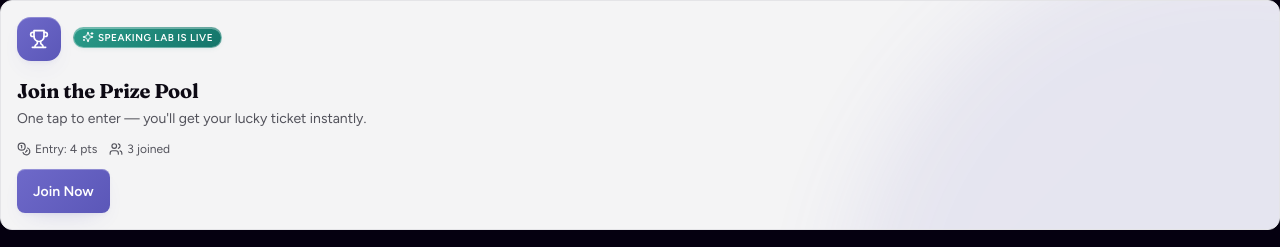
Test: SpeakingLabLiveCard — one-tap live card › maps a join failure to a friendly message with a Try again button (no charge on failure)
Click the button with test id "speaking-lab-join-now". click: (63, 191)
box: [17, 169, 110, 213]
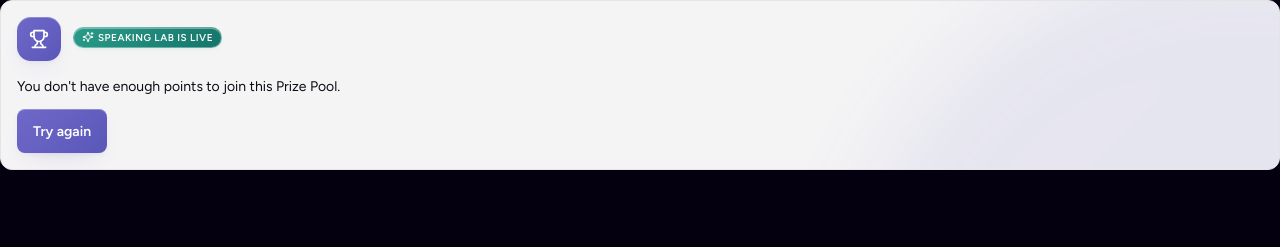
Expected: the text "You don't have enough points to join this Prize Pool." is shown, [17, 78, 340, 95]
Expected: the button with test id "speaking-lab-try-again" is shown, [17, 109, 107, 153]
